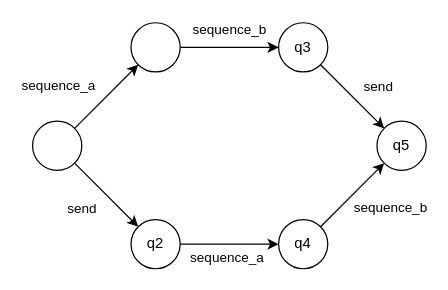
This 448x290 diagram has some shape labels left out. The shapes that lost their labels are listed below. From the top down, each one's box as (x1, y1, x2, y2) in pixels, then its label:
(130, 22, 180, 72): q1
(31, 120, 82, 170): q0
